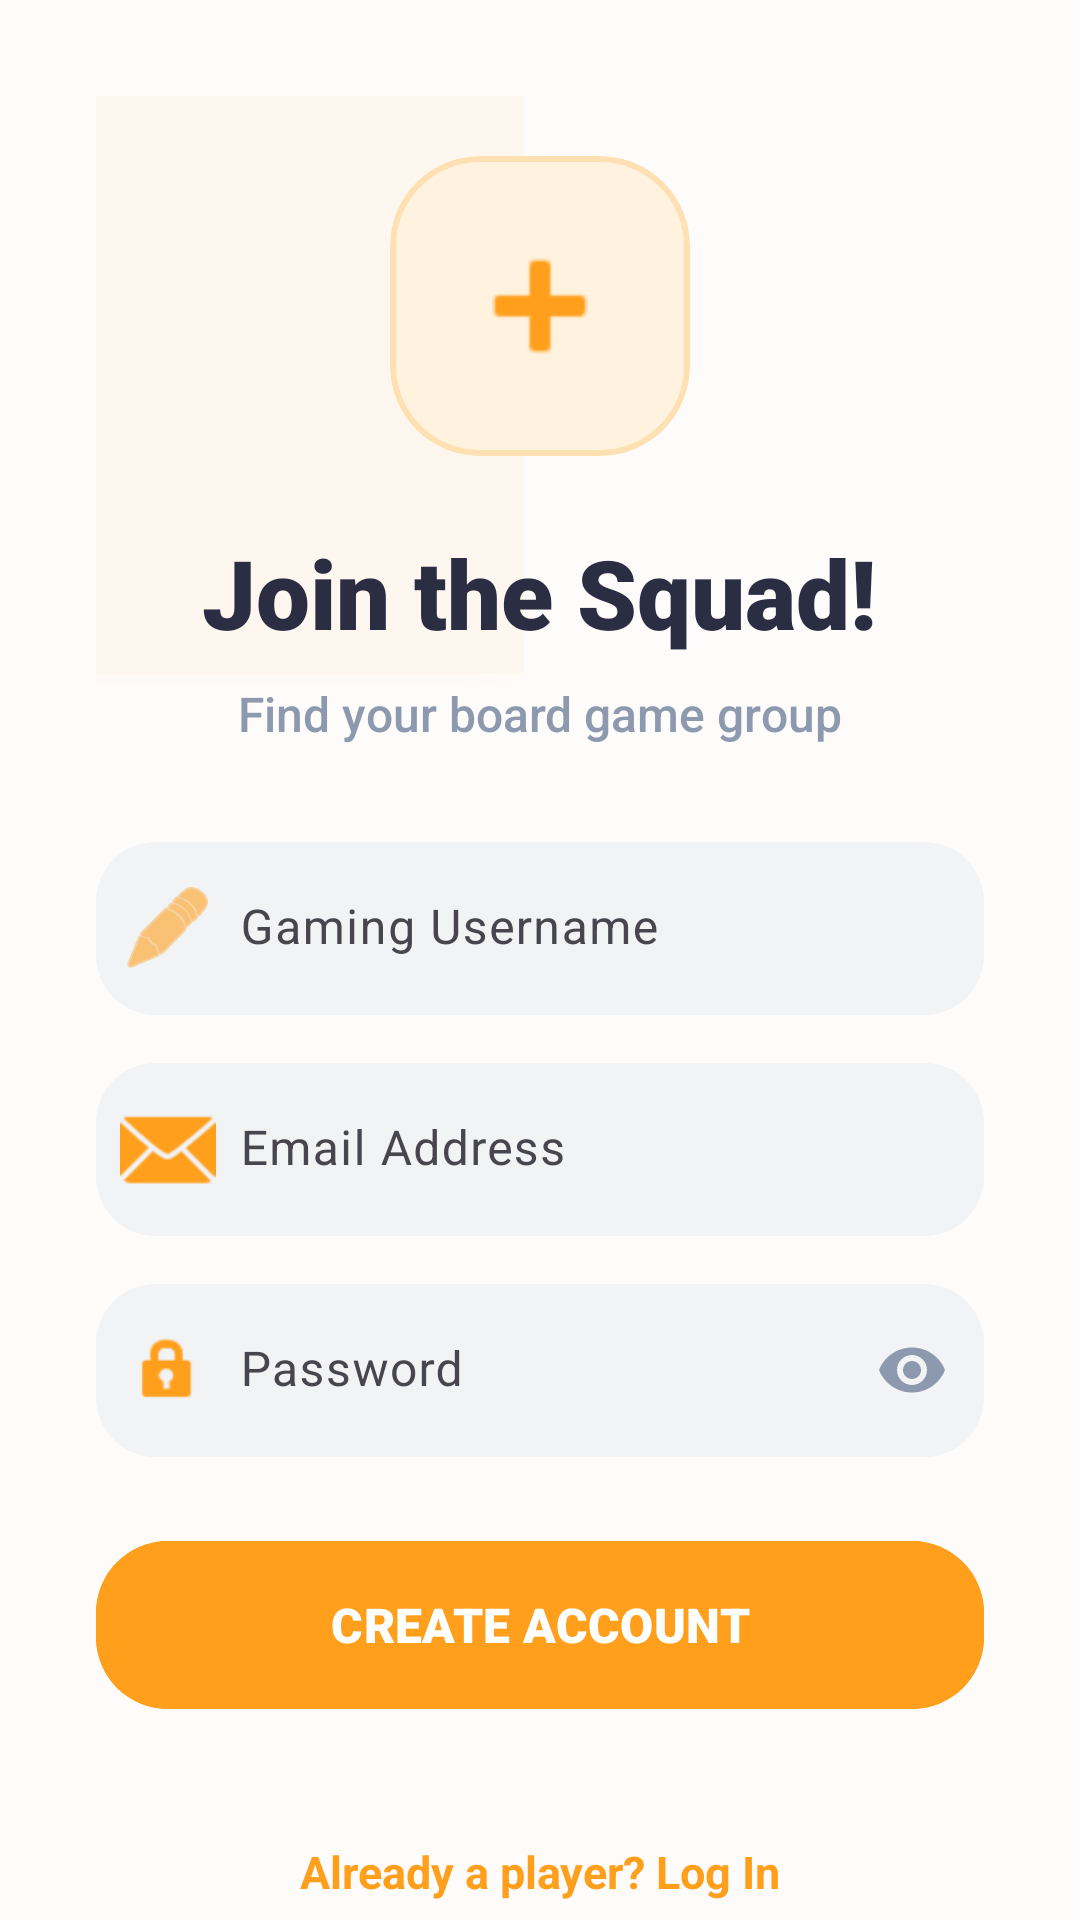

Icon click points for this 1080×1920 phone screenshot, format [x,y]:
add: [540,306]
